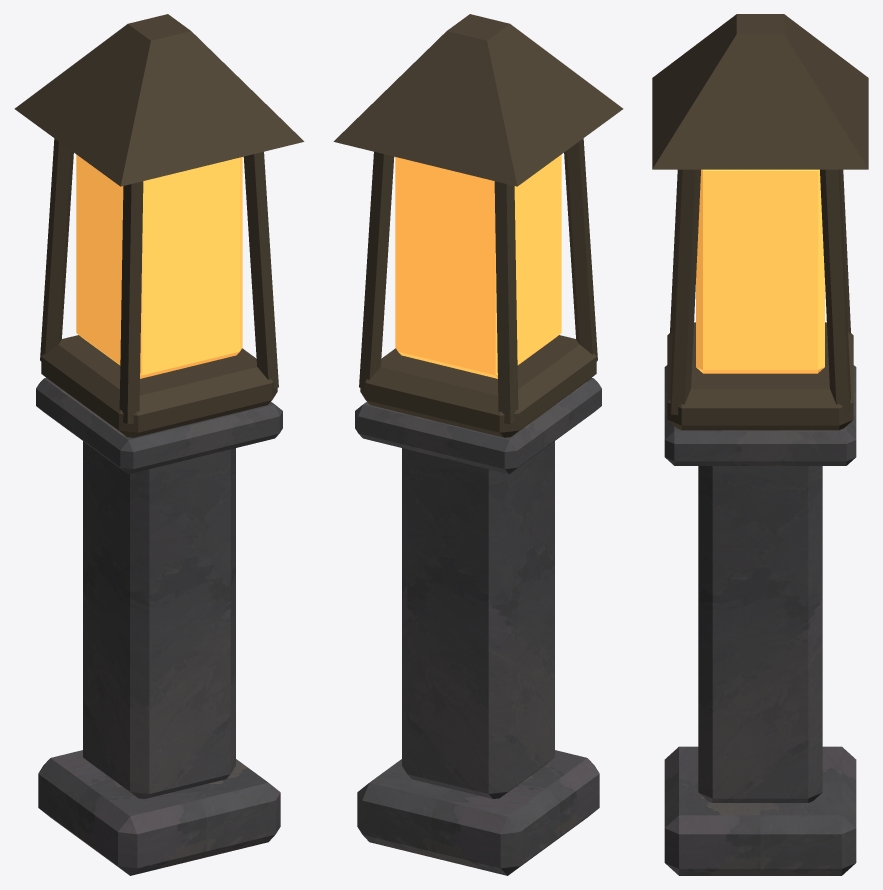
Rendered from lantern-post.glb.
3 views of the same model, side by side, from view 1: azimuth 30°, elevation 25°; view 2: azimuth 150°, elevation 25°; view 3: azimuth 270°, elevation 25° (orthographic).
Parts seen in each view (by area): view 1: lantern-post; view 2: lantern-post; view 3: lantern-post.
Boxes of the visible parts, left/top/right/bottom form: lantern-post: left=14, top=14, right=304, bottom=875; lantern-post: left=333, top=14, right=623, bottom=875; lantern-post: left=652, top=14, right=868, bottom=875.
Bounding box in the file's own units: 0.4525 × 1.88 × 0.4525.
5 materials, 3 textured.
